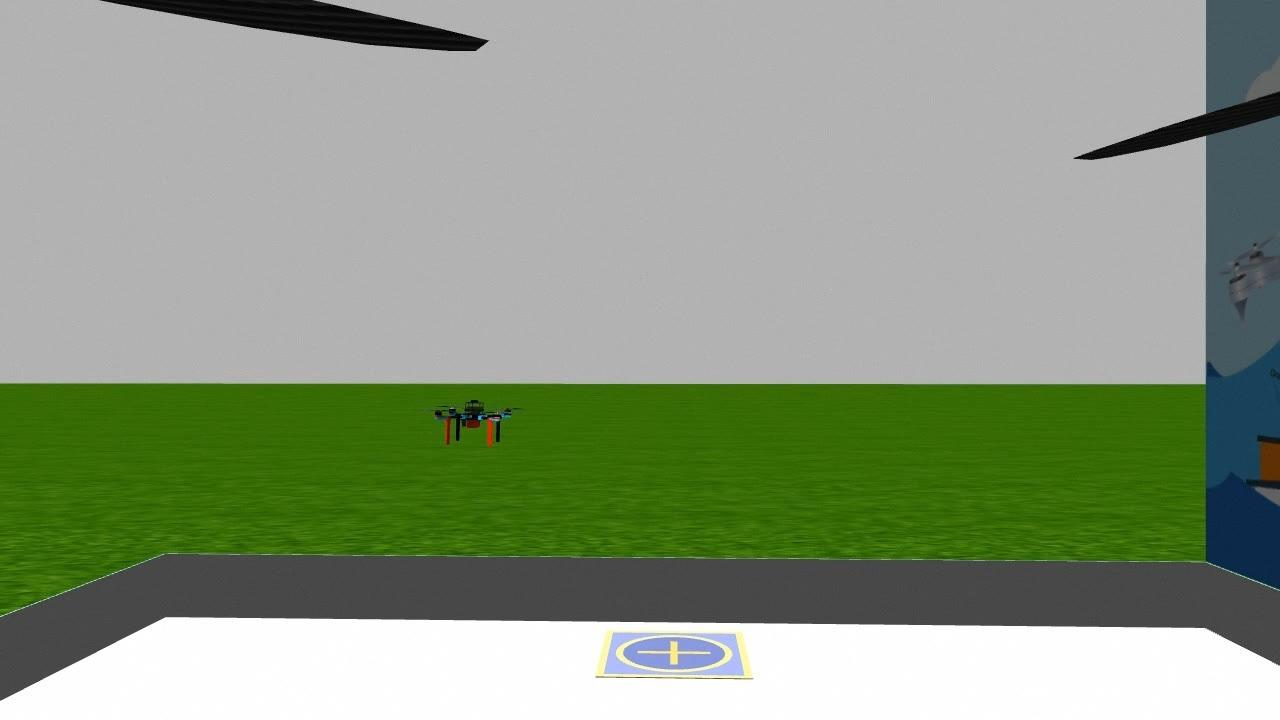UAV: (427, 378, 522, 459)
